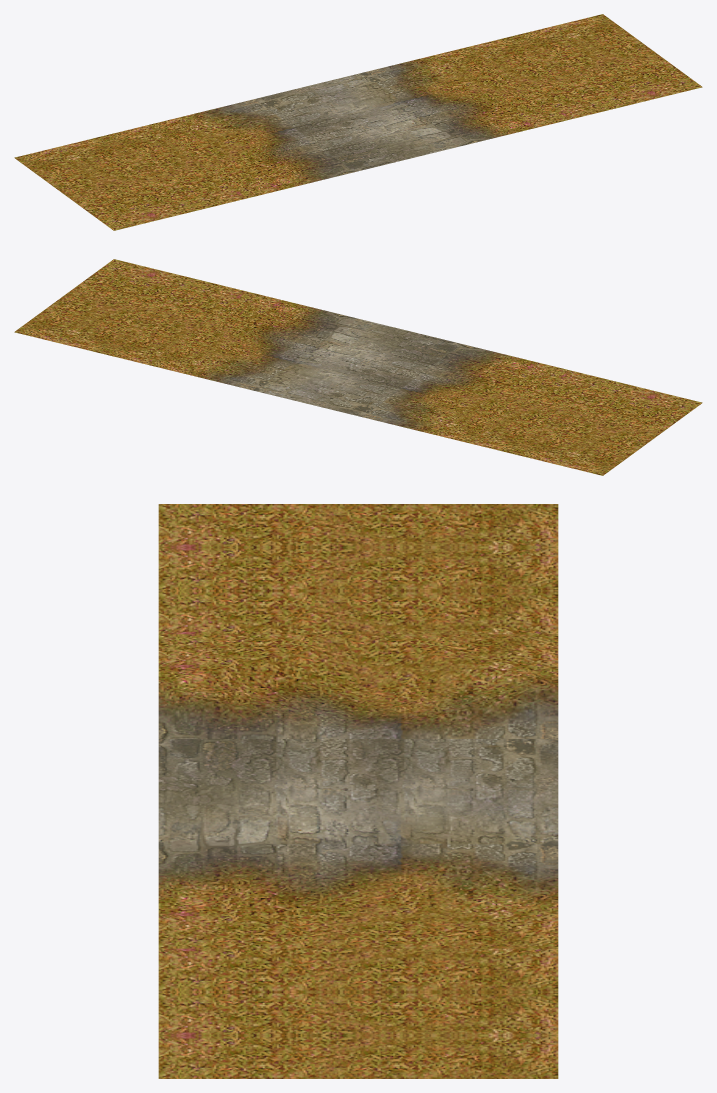
Rendered from FB_CunLuo_Dibiao.FBX.
3 views of the same model, one above another, from view 1: azimuth 30°, elevation 25°; view 2: azimuth 150°, elevation 25°; view 3: azimuth 270°, elevation 25° (orthographic). The views are drawn at different scales.
Visible parts, largest first — view 1: Plane28; view 2: Plane28; view 3: Plane28.
Boxes of the visible parts, <box> form: Plane28: <box>14,14,702,230</box>; Plane28: <box>14,259,702,475</box>; Plane28: <box>158,504,558,1078</box>.
Size of the model in its own units: 34.01 by 5.5e-05 by 10.
